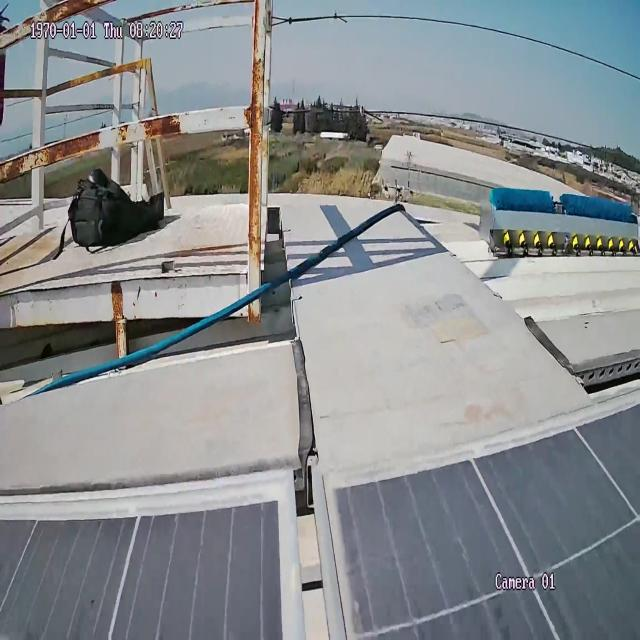outher panel: (0, 241, 640, 505)
